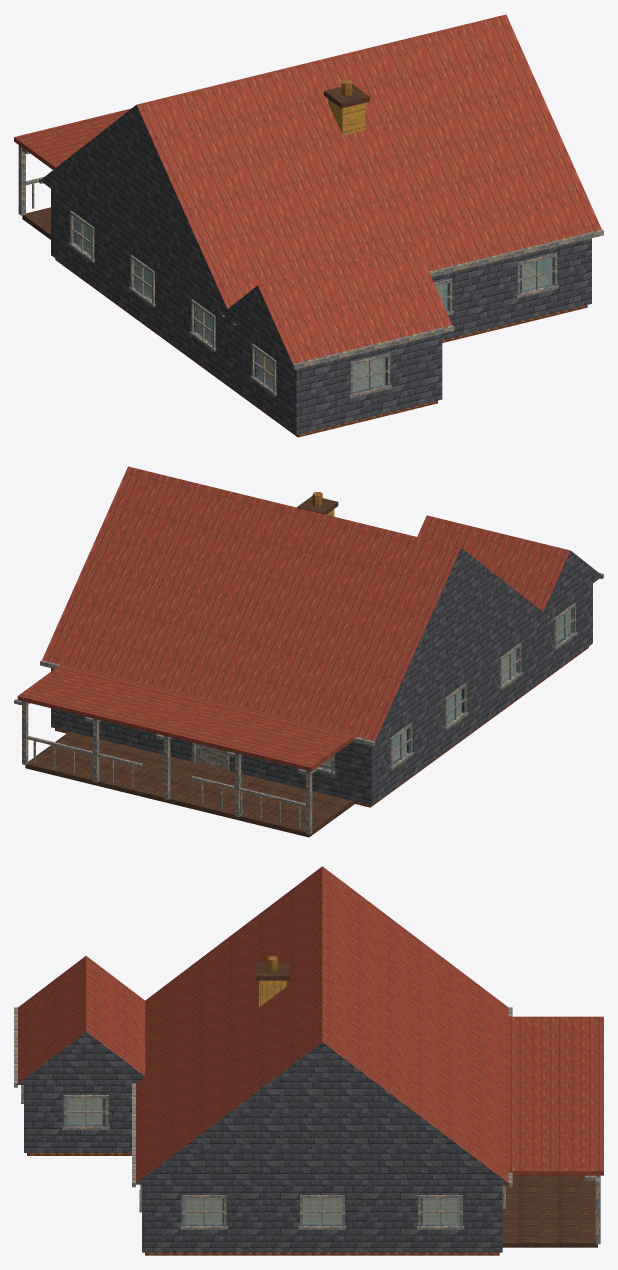
Rendered from foxglove-bungalow.gltf.
3 renders of one model, top to bottom at view 1: azimuth 30°, elevation 25°; view 2: azimuth 150°, elevation 25°; view 3: azimuth 270°, elevation 25°, orthographic. The views are drawn at different scales.
Visible parts, largest first — view 1: roof-L0-brown-shingle, exterior-L0-sage-siding, roof-L0-sage-siding, trim-L0-dark-wood, glazing-L0-glass, porch-L0-brown-shingle, floor-L0-floor, roof-L0-dark-wood, details-L0-brick, porch-L0-dark-wood, details-L0-stone; view 2: roof-L0-brown-shingle, exterior-L0-sage-siding, porch-L0-brown-shingle, roof-L0-sage-siding, porch-L0-stone, porch-L0-dark-wood, trim-L0-dark-wood, glazing-L0-glass, floor-L0-floor, door-leaf-L0-dark-wood; view 3: roof-L0-brown-shingle, roof-L0-sage-siding, exterior-L0-sage-siding, porch-L0-brown-shingle, porch-L0-stone, floor-L0-floor, glazing-L0-glass, trim-L0-dark-wood, roof-L0-dark-wood, details-L0-stone.
Part boxes in pixels (x1=…): roof-L0-brown-shingle: x1=137, y1=14, x2=601, y2=363; exterior-L0-sage-siding: x1=51, y1=189, x2=591, y2=434; roof-L0-sage-siding: x1=40, y1=105, x2=292, y2=365; trim-L0-dark-wood: x1=68, y1=210, x2=558, y2=398; glazing-L0-glass: x1=75, y1=218, x2=552, y2=392; porch-L0-brown-shingle: x1=14, y1=108, x2=131, y2=169; floor-L0-floor: x1=55, y1=258, x2=587, y2=437; roof-L0-dark-wood: x1=39, y1=176, x2=603, y2=369; details-L0-brick: x1=328, y1=99, x2=365, y2=135; porch-L0-dark-wood: x1=18, y1=145, x2=38, y2=215; details-L0-stone: x1=324, y1=84, x2=369, y2=108; roof-L0-brown-shingle: x1=42, y1=466, x2=570, y2=741; exterior-L0-sage-siding: x1=51, y1=584, x2=592, y2=805; porch-L0-brown-shingle: x1=17, y1=663, x2=355, y2=771; roof-L0-sage-siding: x1=374, y1=548, x2=602, y2=742; porch-L0-stone: x1=25, y1=731, x2=354, y2=837; porch-L0-dark-wood: x1=14, y1=699, x2=331, y2=834; trim-L0-dark-wood: x1=192, y1=603, x2=577, y2=774; glazing-L0-glass: x1=318, y1=610, x2=571, y2=769; floor-L0-floor: x1=55, y1=646, x2=588, y2=807; door-leaf-L0-dark-wood: x1=197, y1=744, x2=226, y2=768; roof-L0-brown-shingle: x1=18, y1=866, x2=508, y2=1182; roof-L0-sage-siding: x1=16, y1=1032, x2=508, y2=1184; exterior-L0-sage-siding: x1=24, y1=1085, x2=502, y2=1252; porch-L0-brown-shingle: x1=507, y1=1016, x2=603, y2=1175; porch-L0-stone: x1=502, y1=1175, x2=597, y2=1247; floor-L0-floor: x1=27, y1=1099, x2=499, y2=1255; glazing-L0-glass: x1=66, y1=1098, x2=460, y2=1224; trim-L0-dark-wood: x1=21, y1=1085, x2=505, y2=1229; roof-L0-dark-wood: x1=14, y1=1007, x2=512, y2=1187; details-L0-stone: x1=255, y1=962, x2=289, y2=980.
Bounding box in the file's own units: 10.56 × 6.13 × 14.98.
10 materials, 9 textured.
